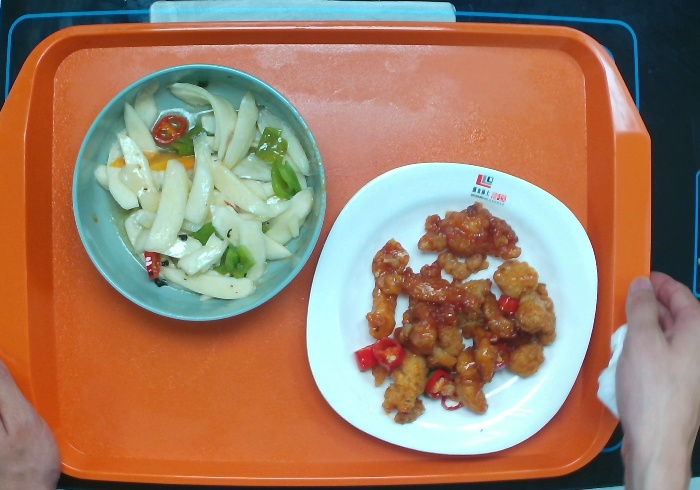ZNLD-Qing_Hua_Yuan_Wan: (71, 62, 328, 322)
ZNLD-Yuan_Jiao_Pan: (305, 160, 600, 457)
